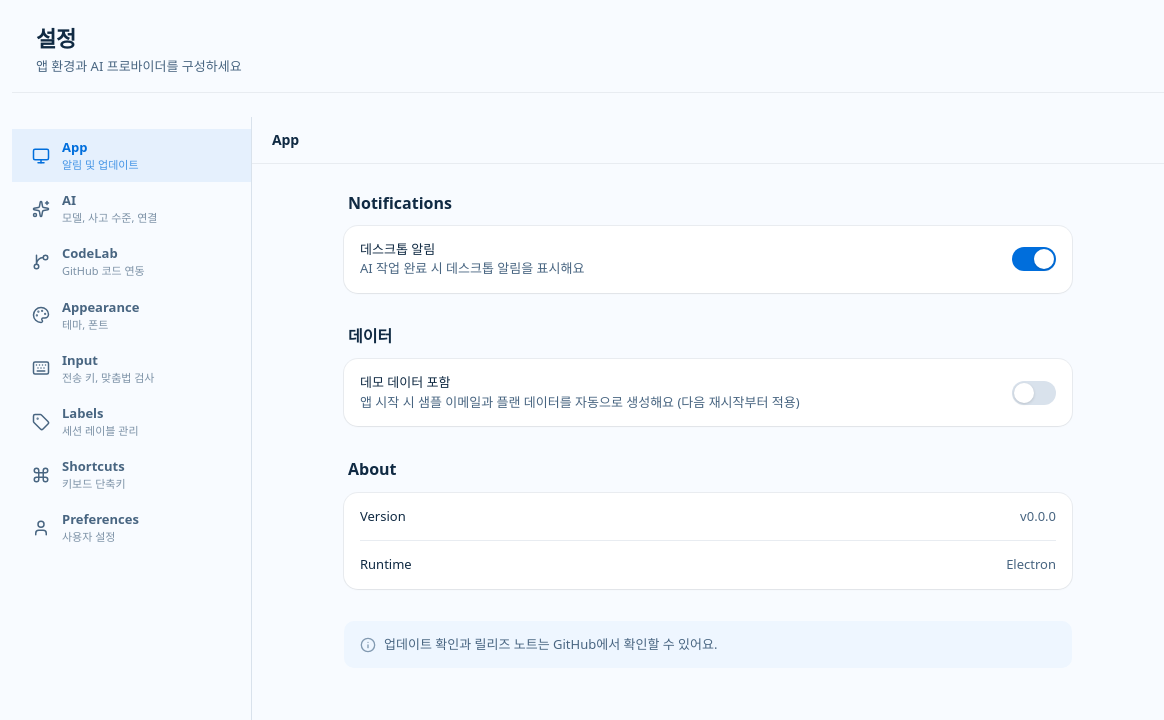
Scenario: SettingsPage › Appearance 카테고리에서 테마 옵션 3개를 표시한다
Click the button "Appearance 테마, 폰트".
click(132, 315)  # box [12,289,251,342]
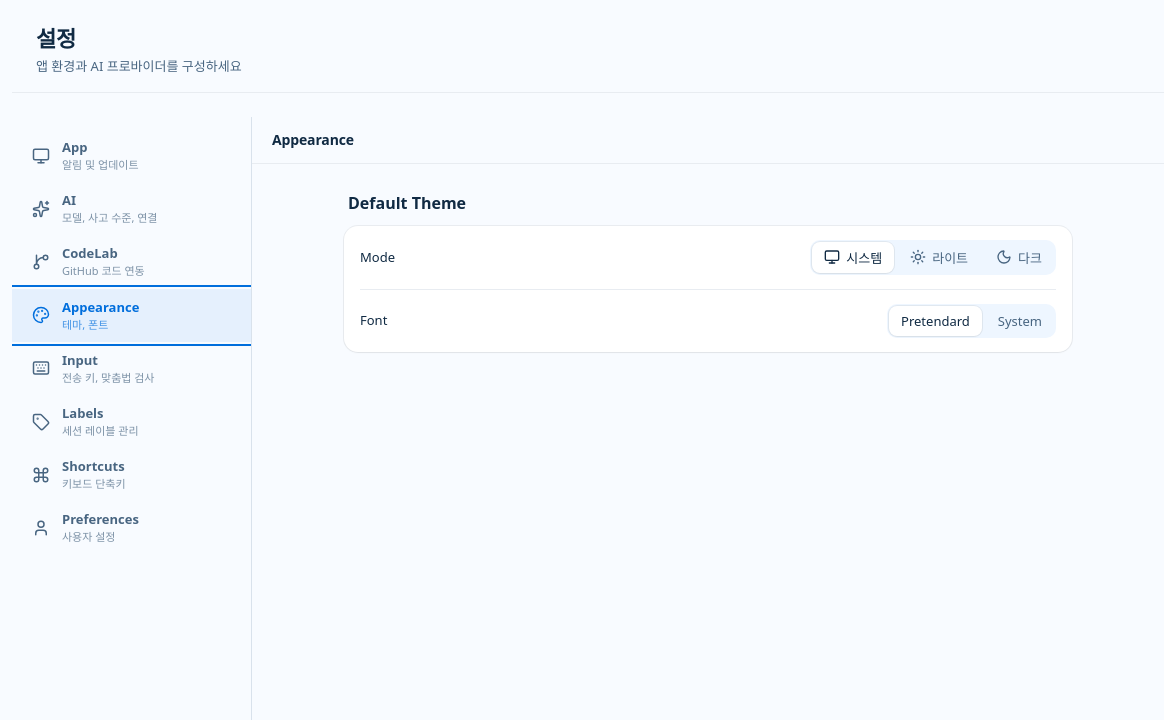
Check: the text "시스템" is shown, box [846,248,882,267]
Check: the text "라이트" is shown, box [932,248,968,267]
Check: the text "다크" is shown, box [1018,248,1042,267]
